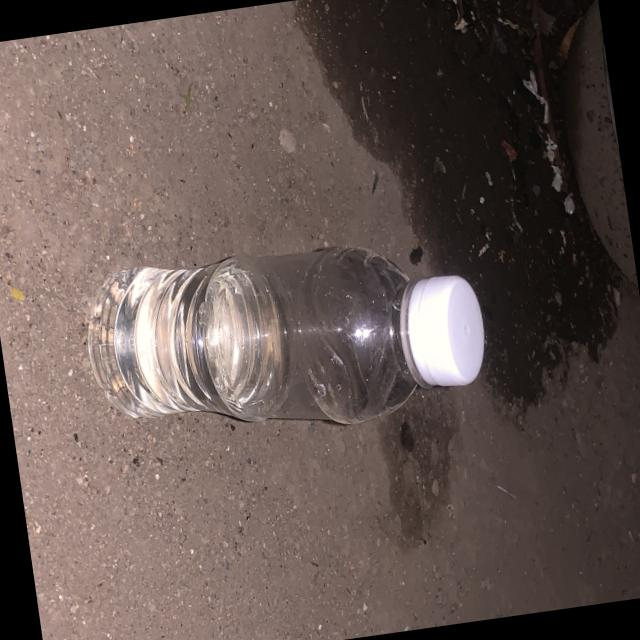Bottle: (86, 246, 483, 424)
